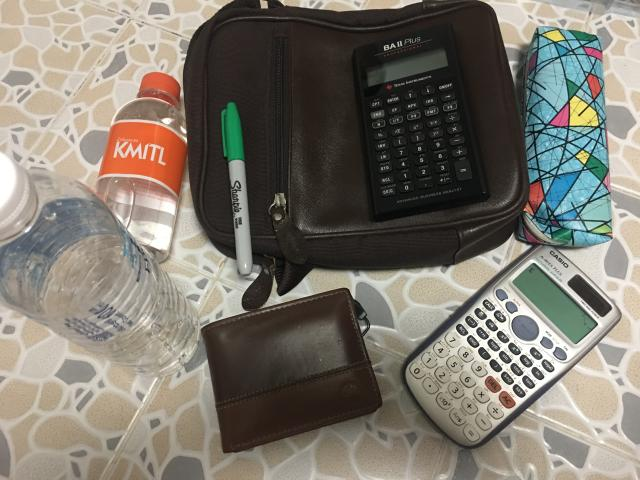Pen: (221, 102, 252, 275)
Wallet: (201, 289, 382, 452)
bottle: (0, 152, 200, 375), (96, 72, 188, 261)
